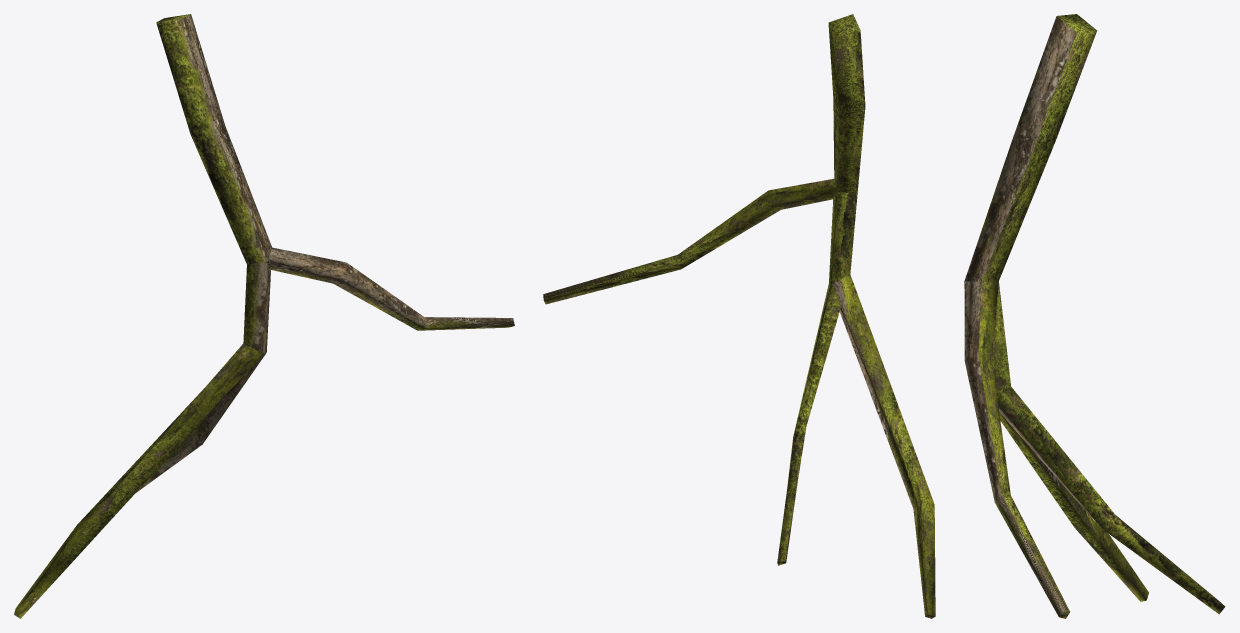
The model's file is forest ground branch mossy 2.fbx.
3 renders of one model, left to right at view 1: azimuth 30°, elevation 25°; view 2: azimuth 150°, elevation 25°; view 3: azimuth 270°, elevation 25°, orthographic. The views are drawn at different scales.
Visible parts, largest first — view 1: Cylinder_004; view 2: Cylinder_004; view 3: Cylinder_004.
Part boxes in pixels (x1=…): Cylinder_004: x1=14, y1=14, x2=514, y2=618; Cylinder_004: x1=543, y1=14, x2=935, y2=618; Cylinder_004: x1=964, y1=14, x2=1225, y2=618.
Bounding box in the file's own units: 0.7953 × 0.9833 × 0.3569.
